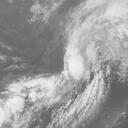cyclone: (51, 46, 102, 89)
